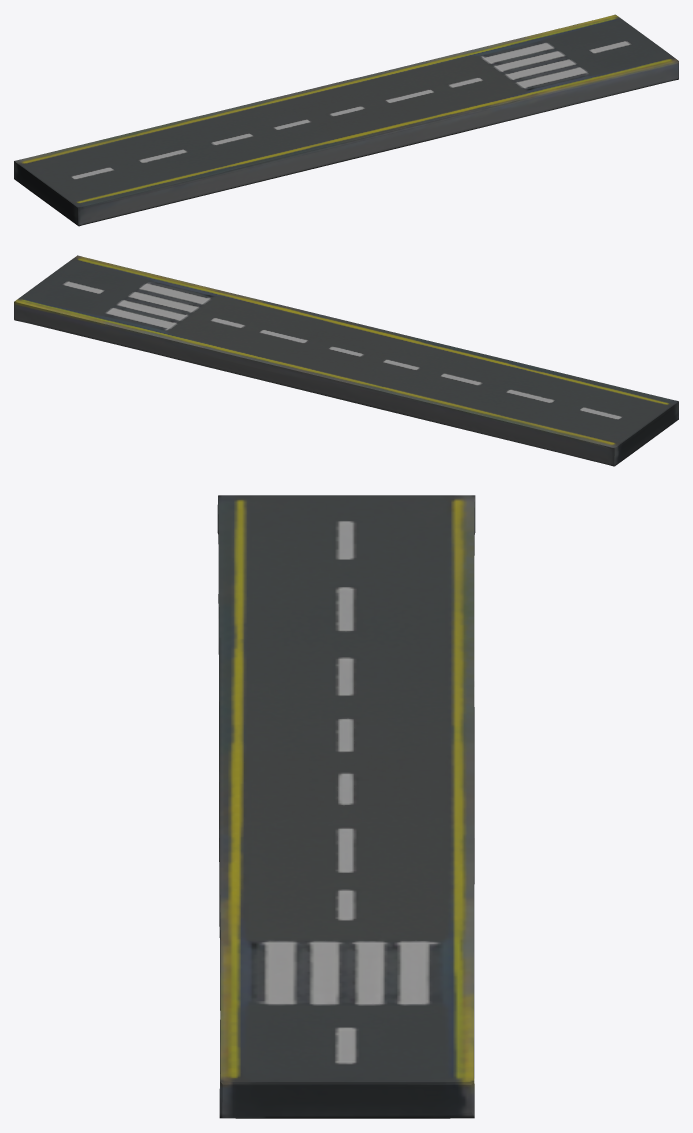
File: road.glb
3 renders of one model, top to bottom at view 1: azimuth 30°, elevation 25°; view 2: azimuth 150°, elevation 25°; view 3: azimuth 270°, elevation 25°, orthographic. The views are drawn at different scales.
Parts seen in each view (by area): view 1: world; view 2: world; view 3: world.
Boxes of the visible parts, left/top/right/bottom form: world: left=14, top=14, right=678, bottom=226; world: left=14, top=255, right=678, bottom=466; world: left=217, top=495, right=475, bottom=1118.
Size of the model in its own units: 1 by 0.03 by 0.1855.
1 material, 1 textured.
